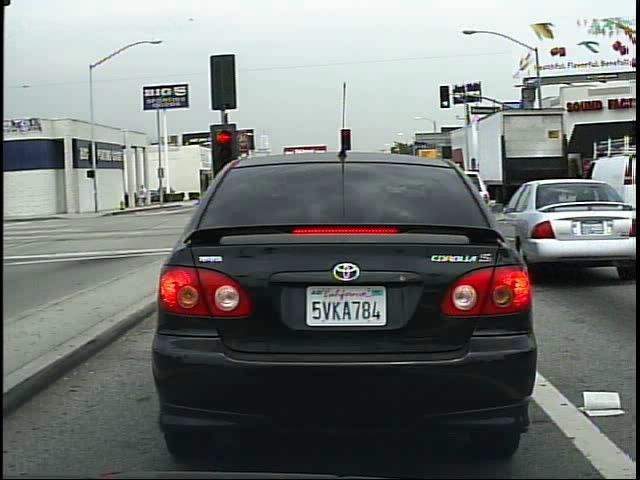person: (517, 169, 532, 202), (136, 182, 149, 211)
